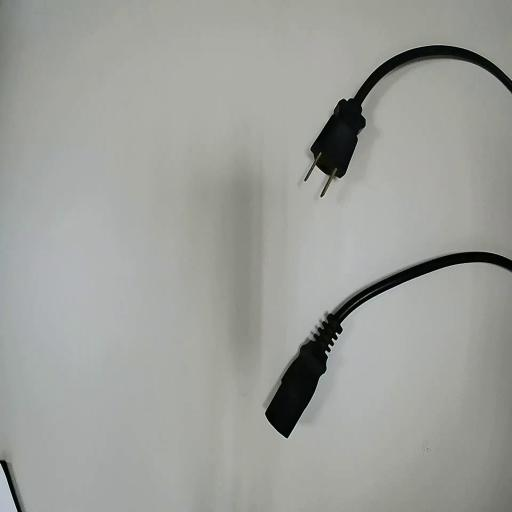wire: (266, 252, 511, 436), (311, 46, 511, 176)
